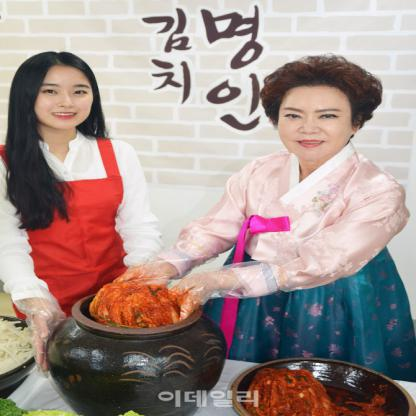kimchi: (78, 280, 190, 336), (250, 362, 340, 416)
